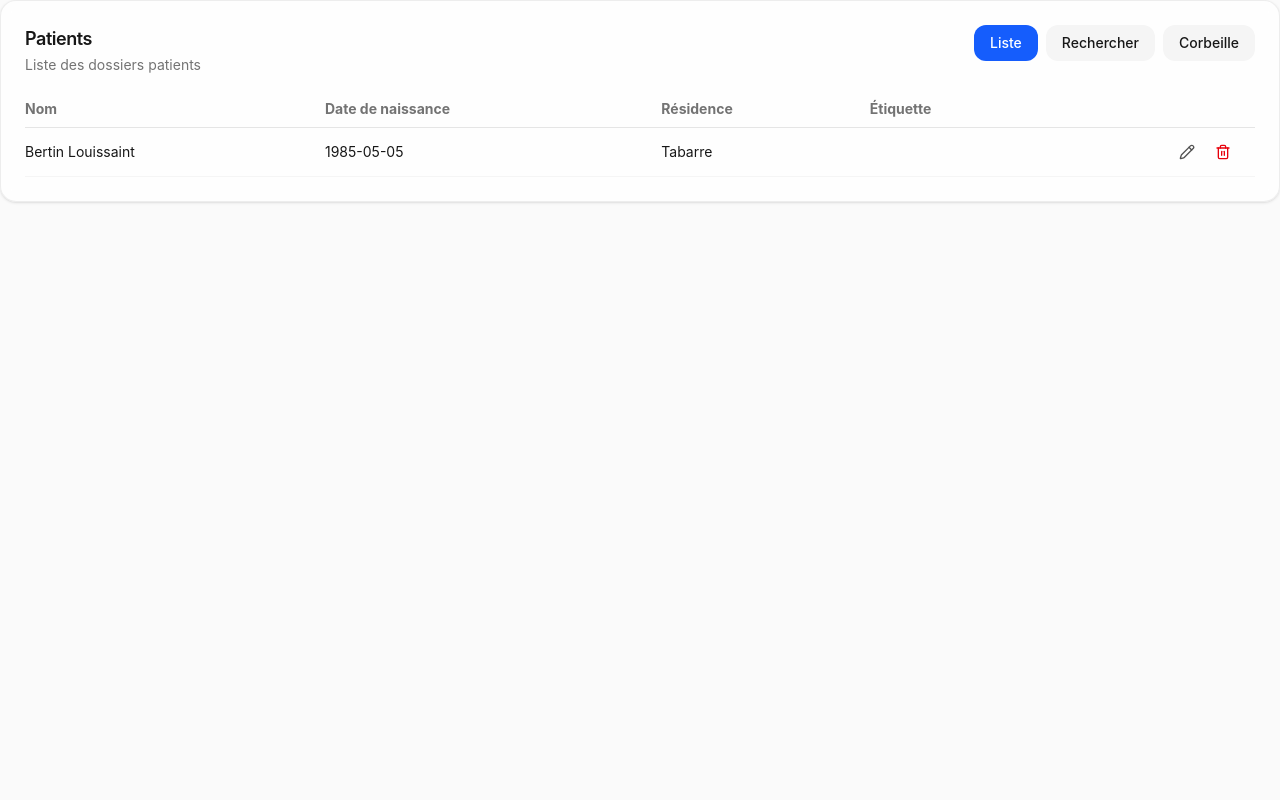
it: PatientsPage › shows an error and keeps the modal open when saving a patient edit fails
Check: the text "Bertin Louissaint" is shown, box [25,128,325,176]
Click the button named "Modifier" at (1187, 152), box [1171,136,1203,168]
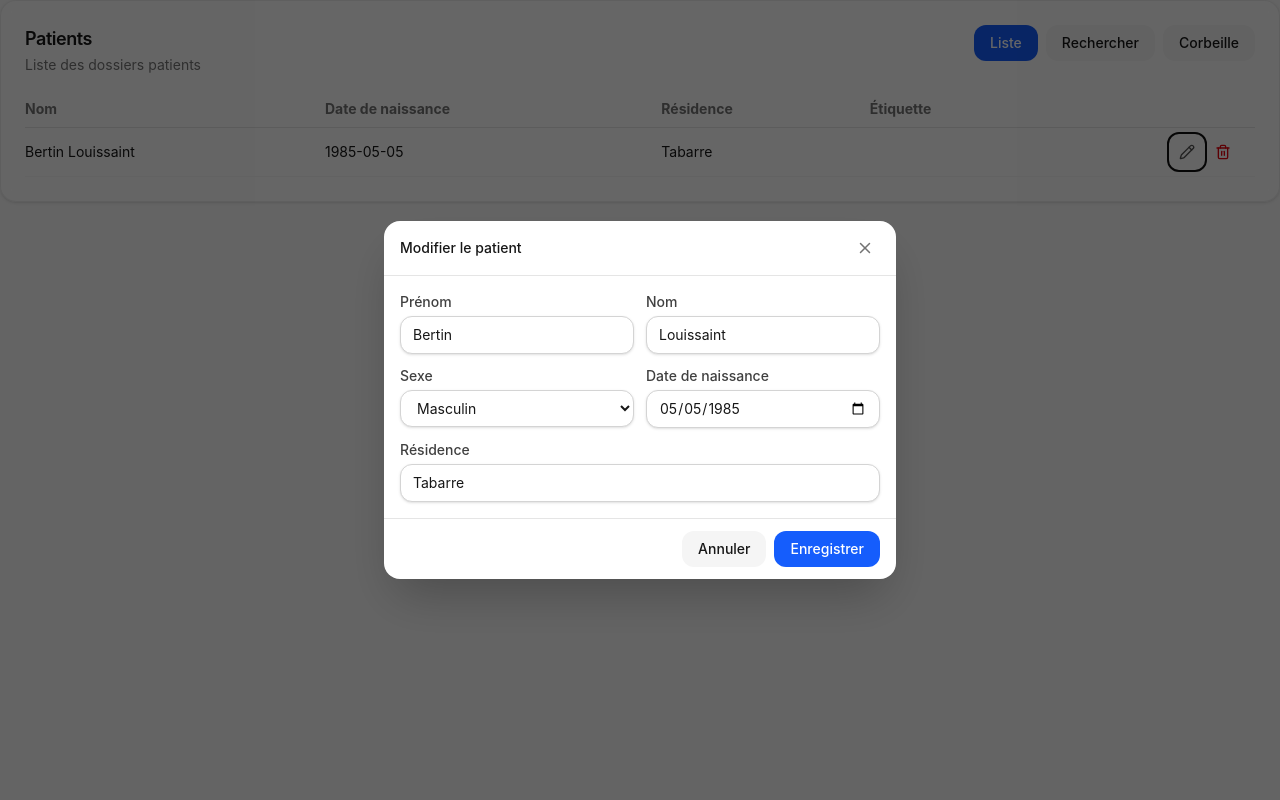
Check: the field labelled "Prénom" holds "Bertin", box [400,316,634,354]
Click the button "Enregistrer" at (827, 549), box [774,531,880,567]
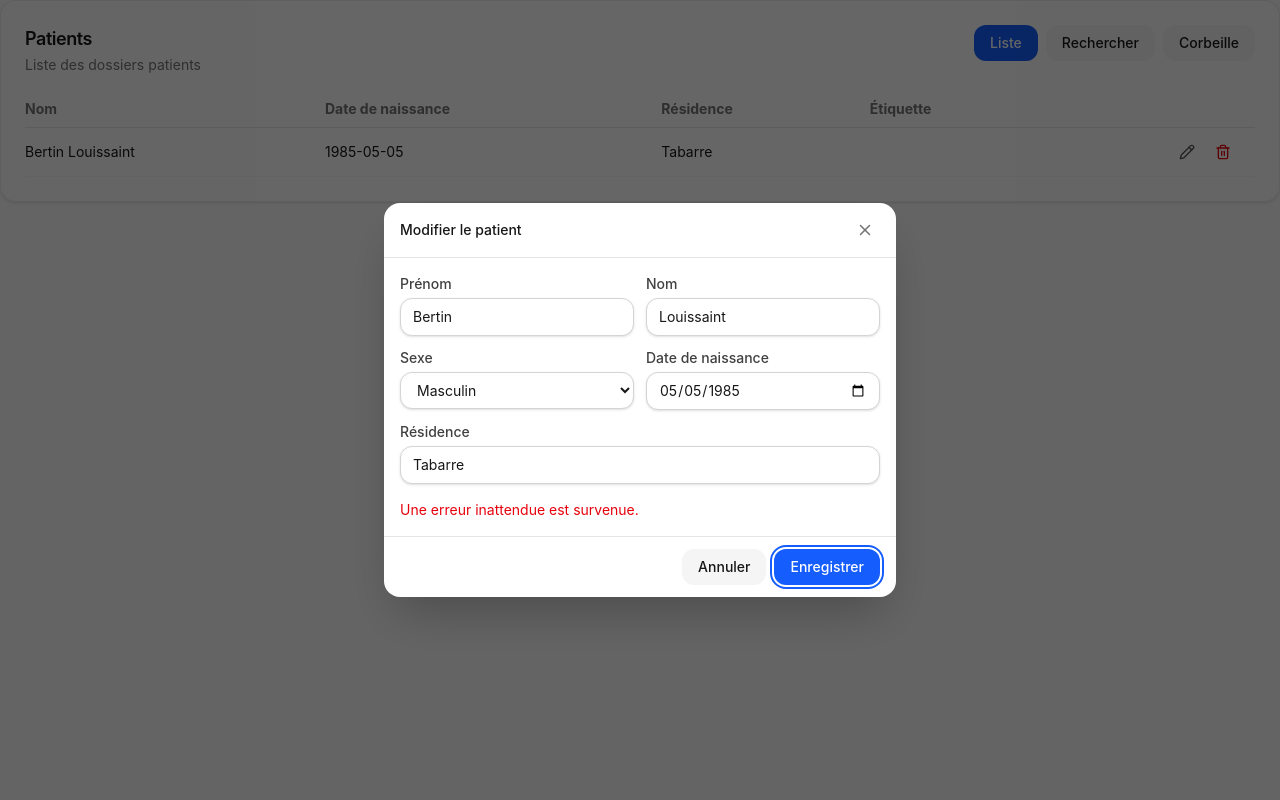
Check: the text "Modifier le patient" is shown, box [400,220,522,240]
Check: the text "Une erreur inattendue est survenue." is shown, box [400,501,639,518]
